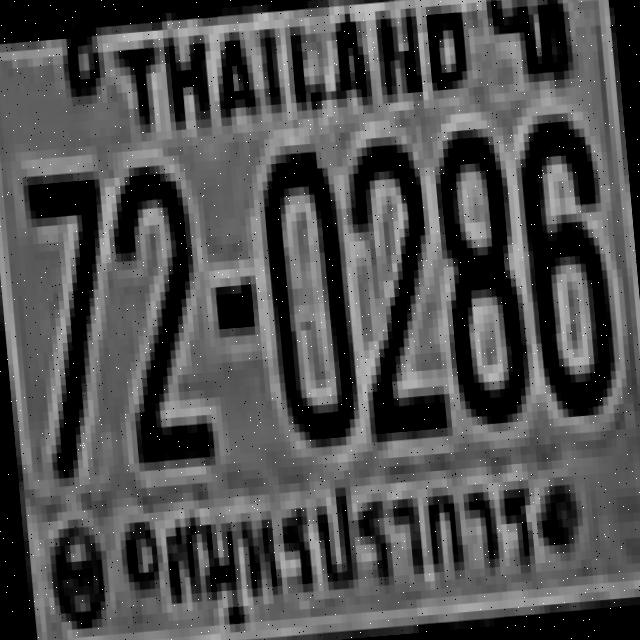0: (254, 142, 356, 442)
2: (105, 155, 207, 463), (342, 130, 444, 438)
6: (512, 110, 613, 410)
7: (16, 162, 118, 470)
8: (431, 118, 526, 418)
SamutPrakan: (143, 457, 563, 640)
